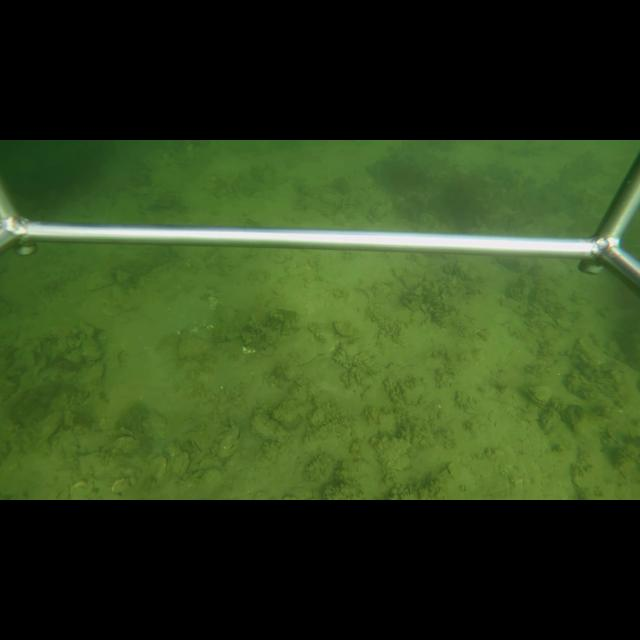Oyster-Closed: (250, 405, 289, 441), (524, 385, 556, 406), (331, 320, 355, 339)
